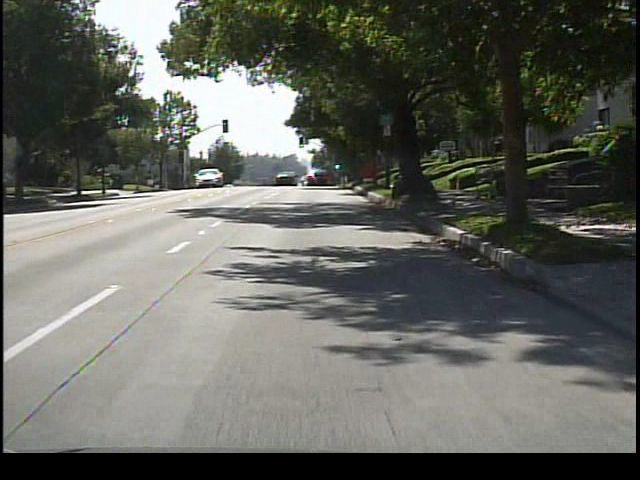person: (499, 149, 526, 200)
